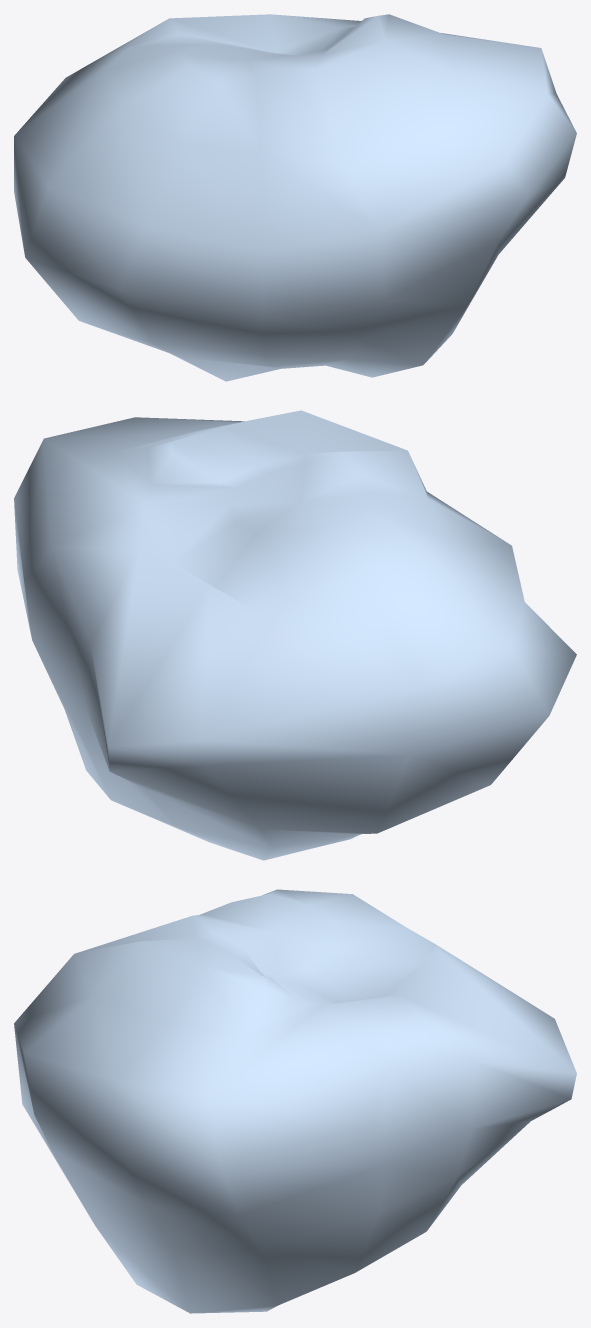
Rendered from lAsteroid3_coll.obj.
The picture shows the model from 3 angles, top to bottom: view 1: azimuth 30°, elevation 25°; view 2: azimuth 150°, elevation 25°; view 3: azimuth 270°, elevation 25°; orthographic projection. The views are drawn at different scales.
Parts seen in each view (by area): view 1: sphere2; view 2: sphere2; view 3: sphere2.
Part boxes in pixels (x1,y1,x2,y2): sphere2: (14,14,576,381); sphere2: (14,410,576,860); sphere2: (14,889,576,1313).
Size of the model in its own units: 36.32 by 22.54 by 33.44.
